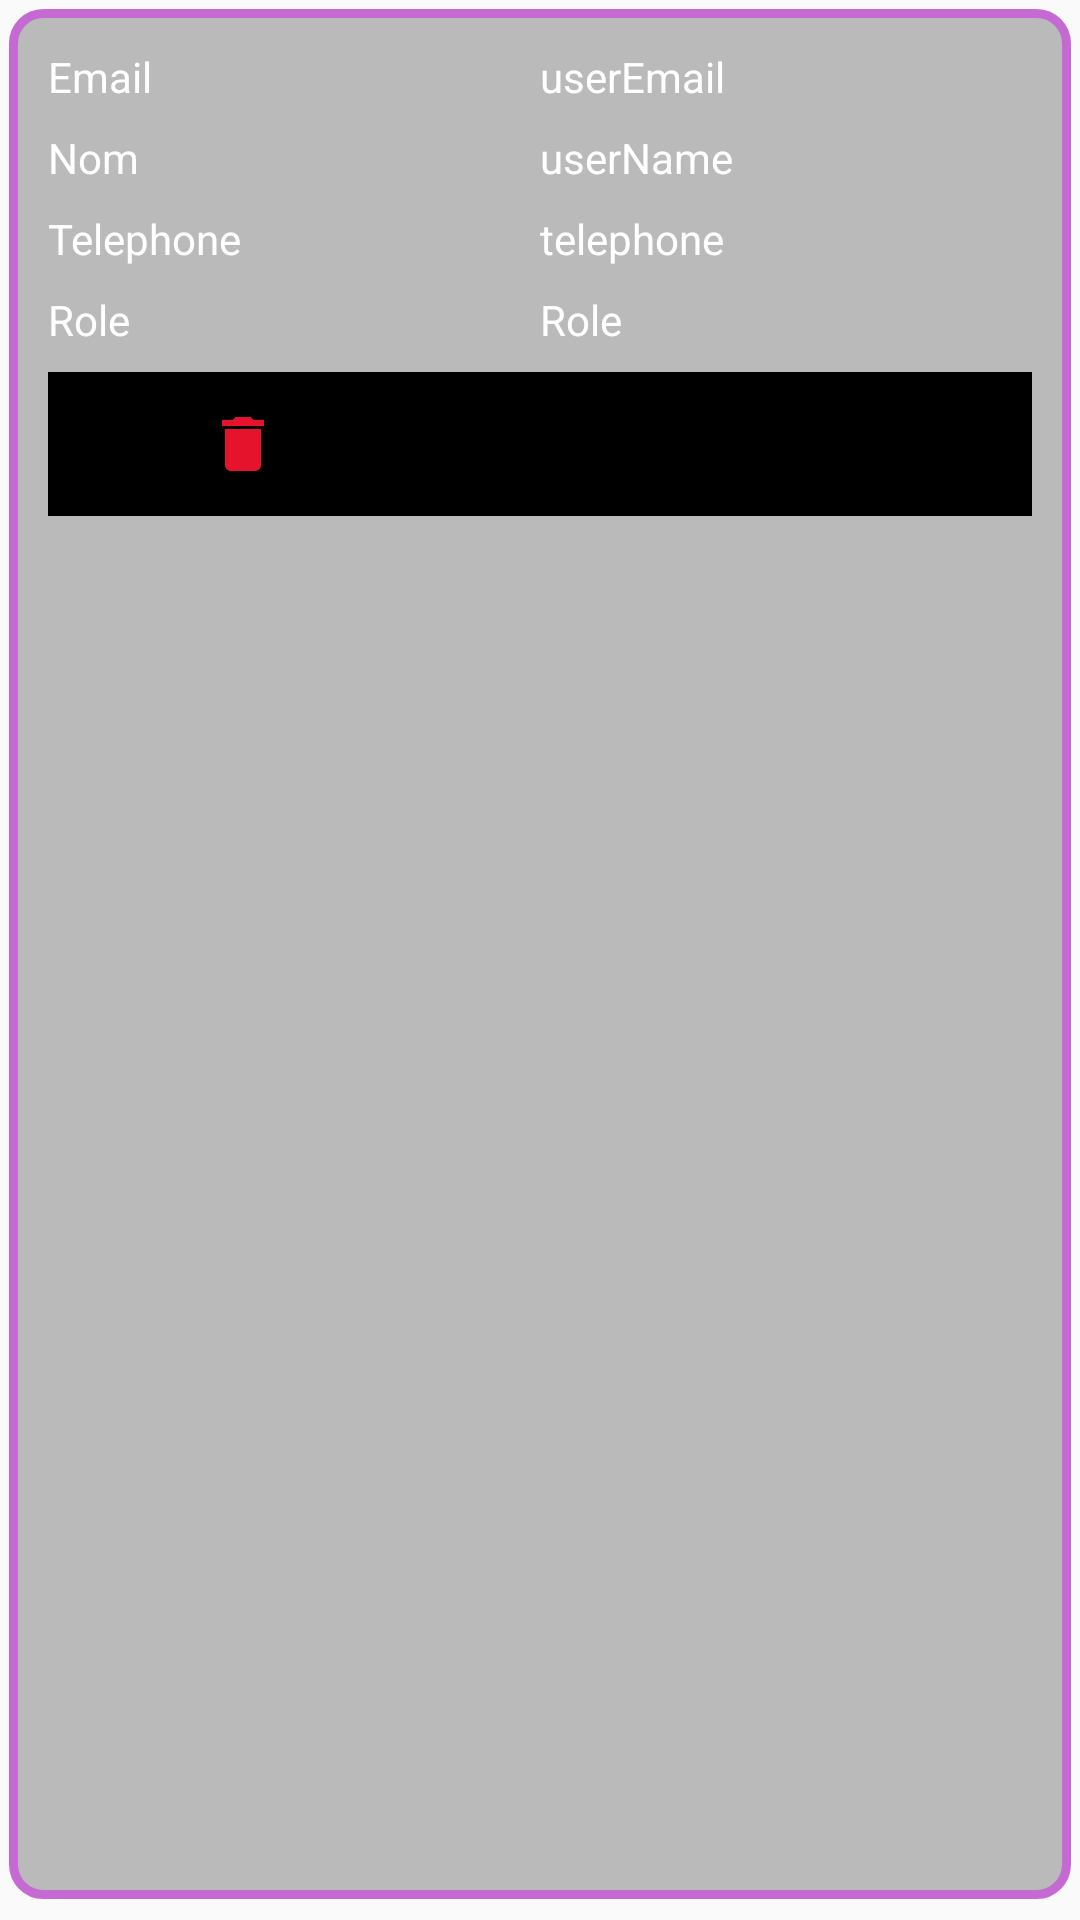

Where icons sit on this 1080px×1920px app screen, as [left=x1, top=y1, right=x2, bottom=y2]:
Supprimer: [left=222, top=417, right=264, bottom=471]
